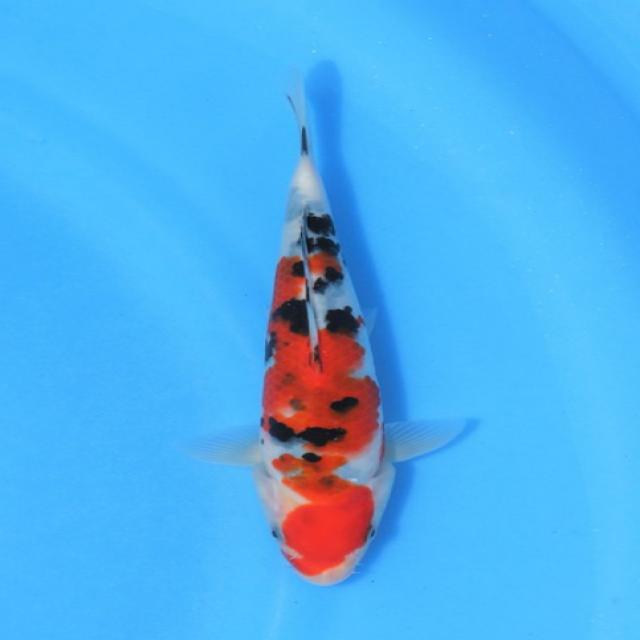Sanke: (188, 73, 468, 586)
